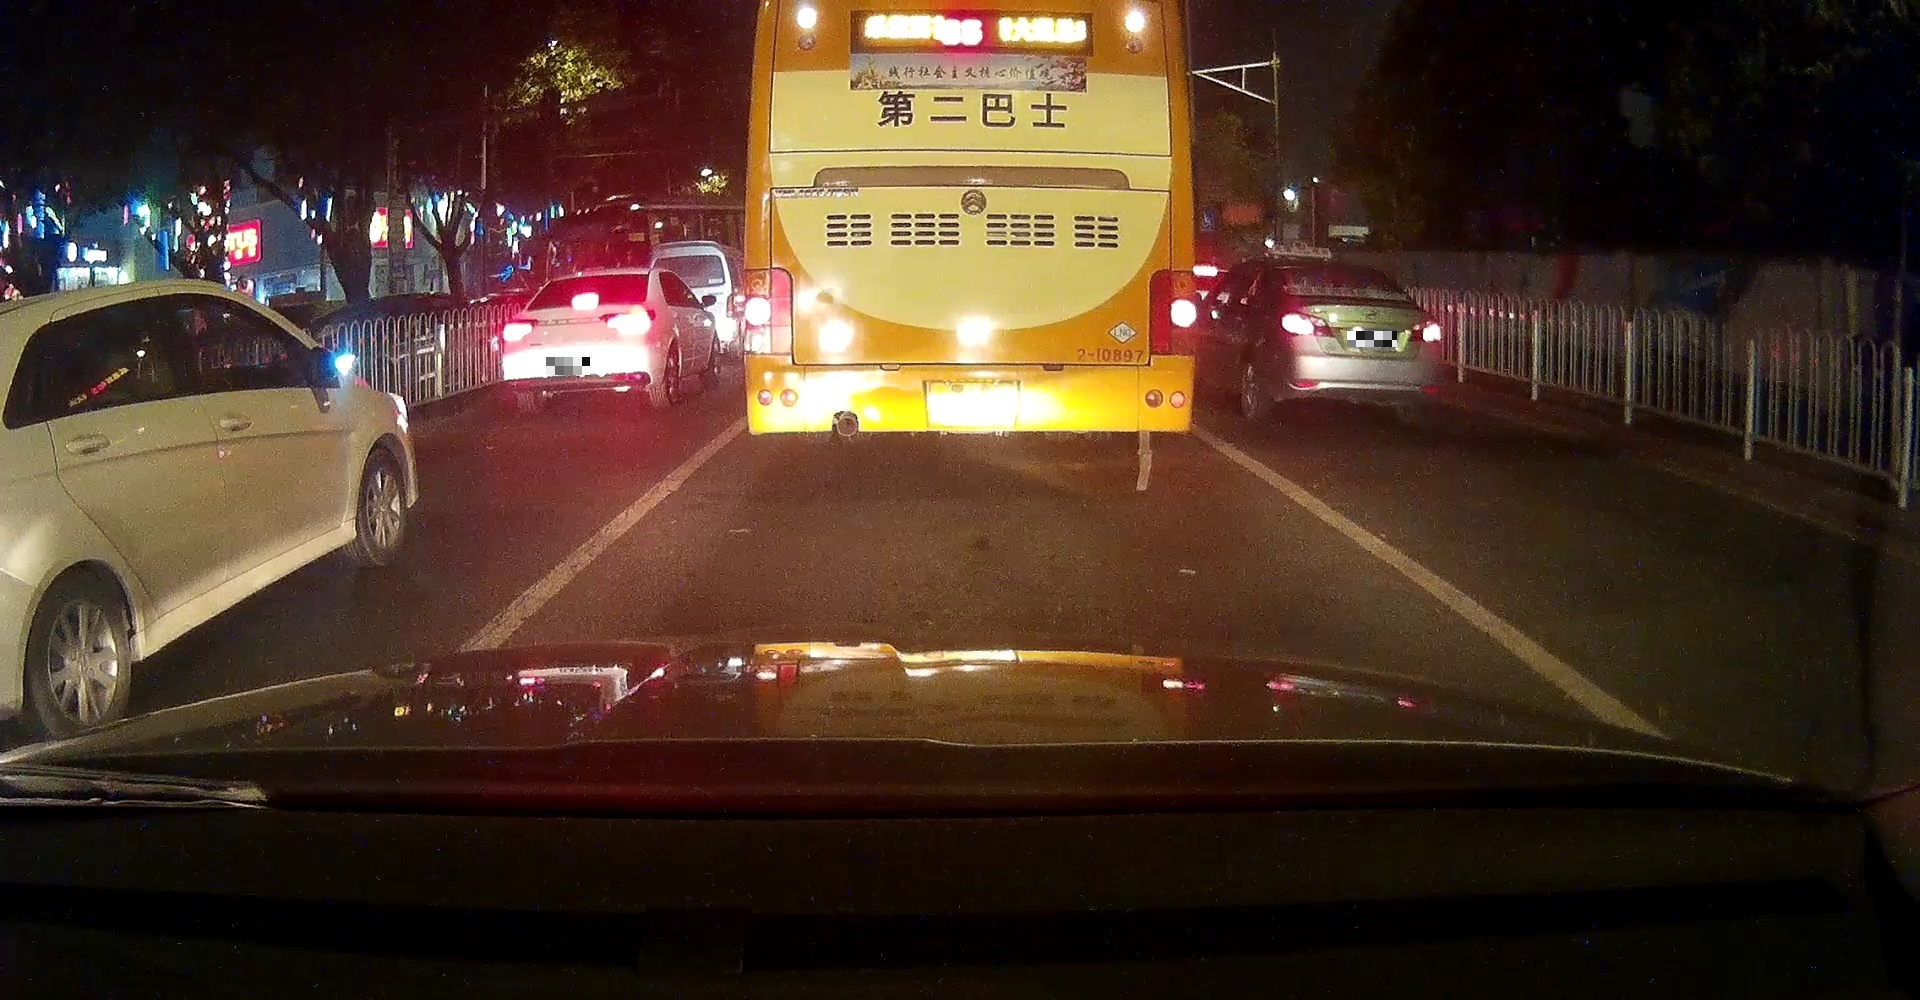L_light: (1279, 310, 1335, 338), (502, 317, 537, 344)
R_light: (599, 308, 655, 338), (1406, 319, 1443, 341)
T_light: (570, 291, 597, 308), (1330, 263, 1346, 266)
night-brake: (500, 266, 665, 419)
night-no: (1272, 258, 1443, 426)
plate_1: (546, 357, 590, 376)
plate_2: (1347, 331, 1397, 346)
